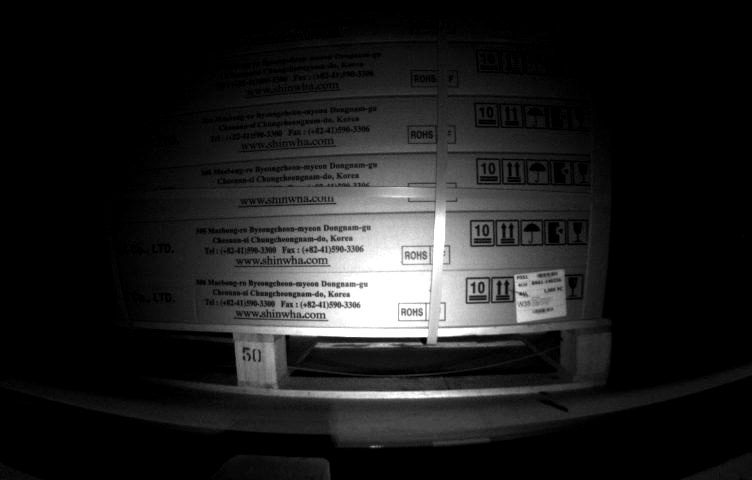True Barcode: (510, 266, 568, 321)
